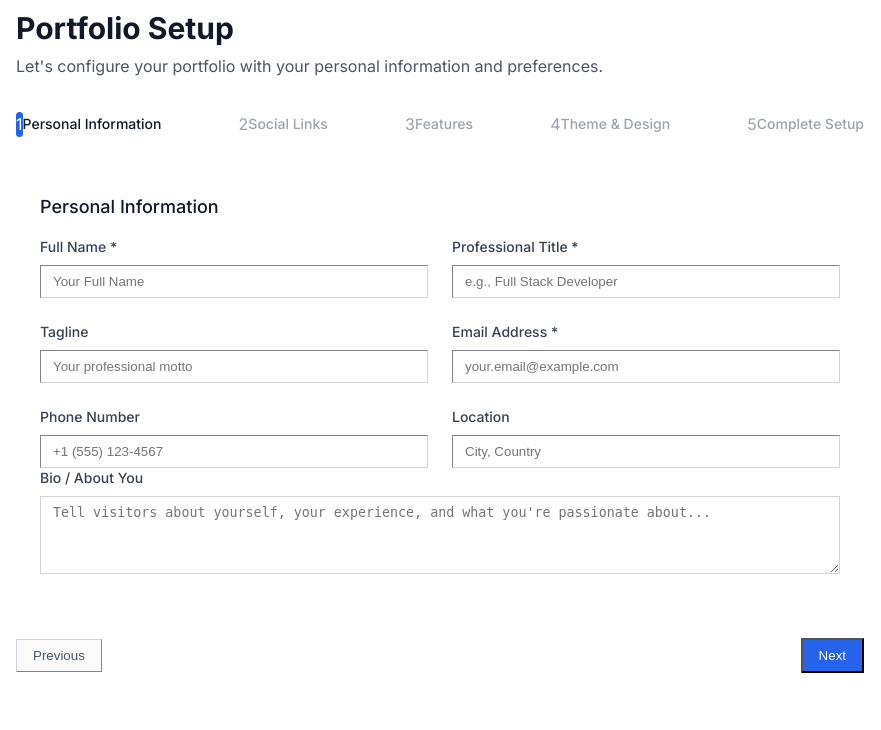
Test: AdminSetupPage › should validate email format
Type "invalid-email" into the field labelled "Email Address *" at (646, 367), box [452, 350, 840, 383]
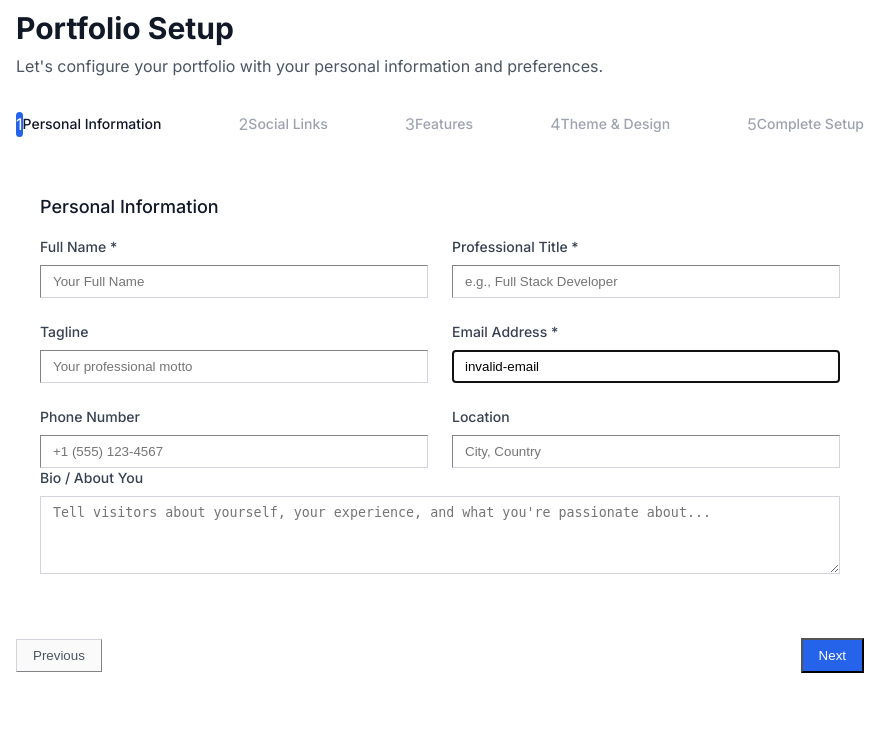
Click the button "Next" at (832, 655), box [801, 638, 864, 673]
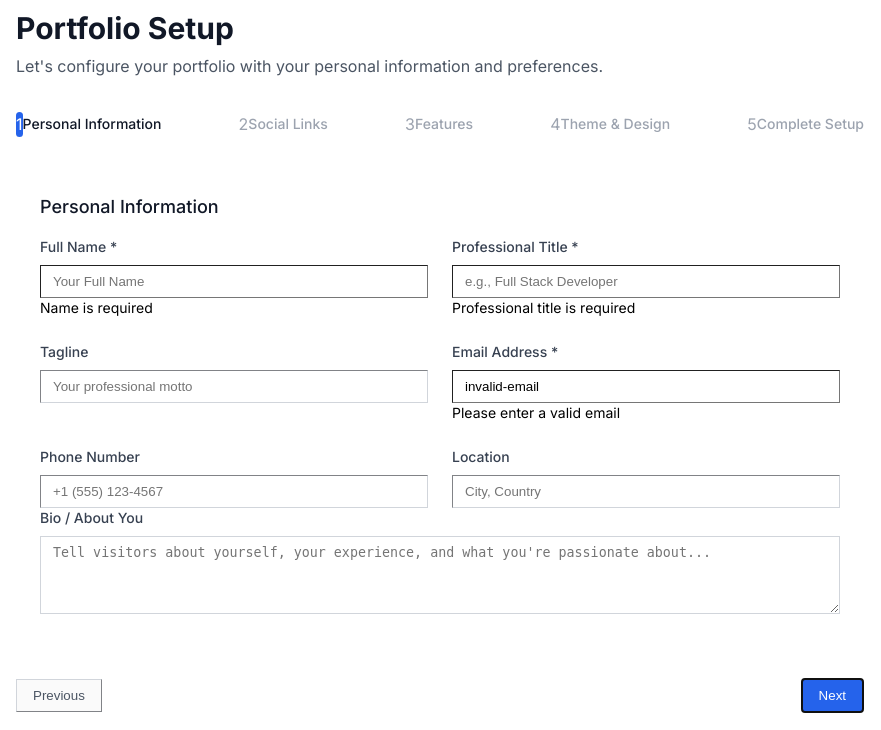
Expected: the text "Please enter a valid email" is shown, [452, 404, 620, 421]
